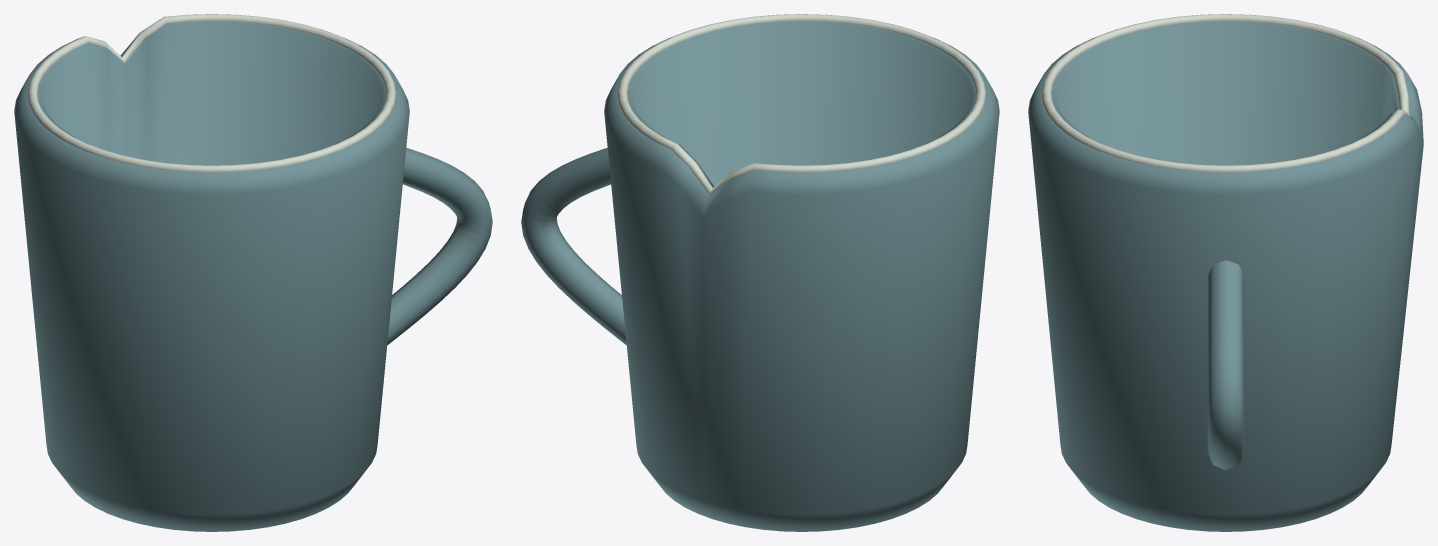
Rendered from cup_lod0.glb.
3 renders of one model, left to right at view 1: azimuth 30°, elevation 25°; view 2: azimuth 150°, elevation 25°; view 3: azimuth 270°, elevation 25°, orthographic.
Parts seen in each view (by area): view 1: cupBody_LOD0, cupRimChip; view 2: cupBody_LOD0, cupRimChip; view 3: cupBody_LOD0, cupRimChip.
Part boxes in pixels (left/top/right/bottom): cupBody_LOD0: left=14, top=21, right=492, bottom=531; cupRimChip: left=27, top=14, right=396, bottom=172; cupBody_LOD0: left=521, top=21, right=999, bottom=531; cupRimChip: left=617, top=14, right=986, bottom=194; cupBody_LOD0: left=1028, top=21, right=1423, bottom=531; cupRimChip: left=1041, top=14, right=1409, bottom=172.
Size of the model in its own units: 0.113 by 0.0911 by 0.086.
